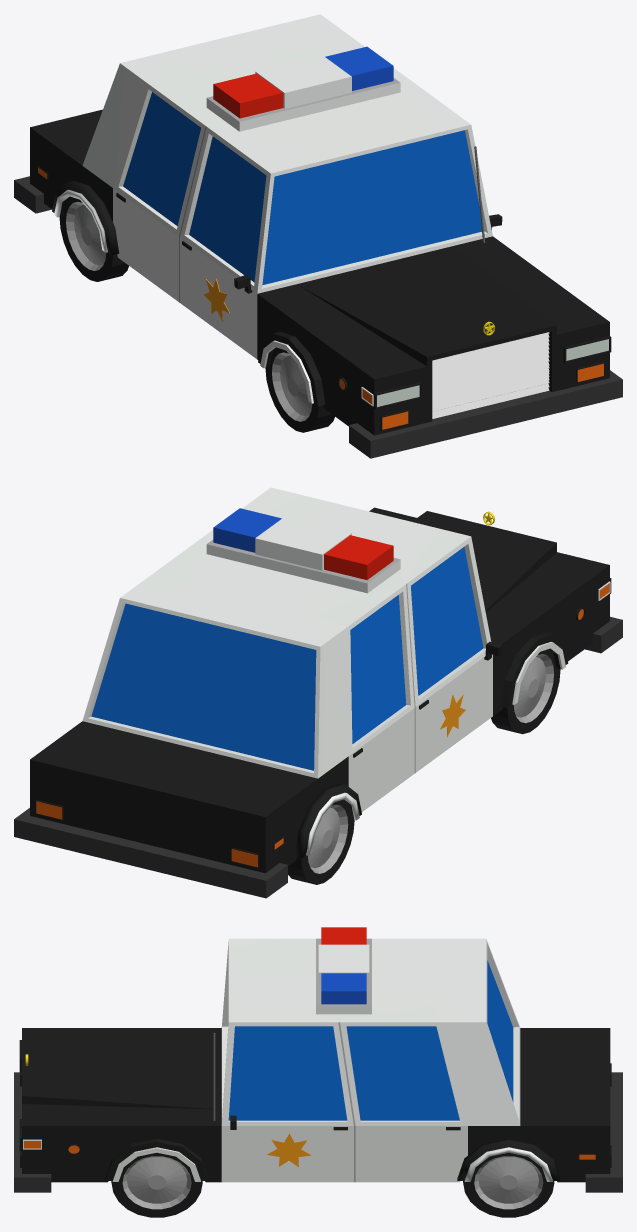
Rendered from Auto Policial Escalado.fbx.
3 renders of one model, top to bottom at view 1: azimuth 30°, elevation 25°; view 2: azimuth 150°, elevation 25°; view 3: azimuth 270°, elevation 25°, orthographic. The views are drawn at different scales.
Parts seen in each view (by area): view 1: Object_18, Object_70, Object_30, Object_46, Object_54, Object_66, Object_14; view 2: Object_18, Object_14, Object_30, Object_46, Object_54, Object_6, Object_70; view 3: Object_18, Object_54, Object_46, Object_30, Object_14, Object_70, Object_10.
Part boxes in pixels (x1,y1,x2,y2): Object_18: (30, 14, 611, 435); Object_70: (349, 370, 622, 458); Object_30: (52, 181, 325, 406); Object_46: (265, 348, 334, 432); Object_54: (59, 197, 128, 281); Object_66: (380, 362, 604, 430); Object_14: (14, 176, 51, 213); Object_18: (30, 487, 611, 873); Object_14: (14, 808, 287, 898); Object_30: (294, 633, 568, 858); Object_46: (491, 649, 560, 734); Object_54: (288, 800, 354, 884); Object_6: (35, 799, 259, 868); Object_70: (585, 616, 622, 653); Object_18: (19, 927, 610, 1182); Object_54: (463, 1152, 554, 1217); Object_46: (111, 1152, 202, 1217); Object_30: (105, 1139, 560, 1181); Object_14: (585, 1072, 622, 1192); Object_70: (14, 1072, 51, 1192); Object_10: (267, 1133, 311, 1166).
Size of the model in its own units: 202 by 178 by 472.
1 material, 1 textured.
